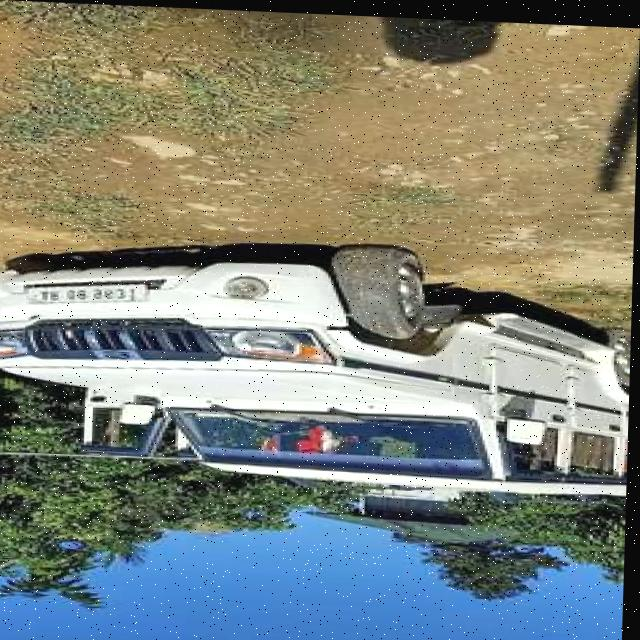plate: (24, 278, 151, 309)
